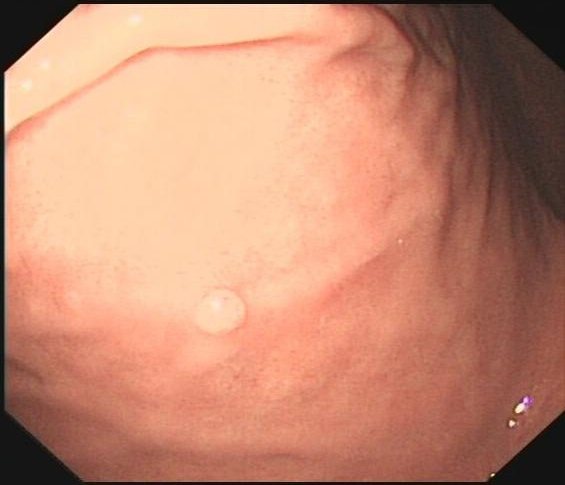Polyp: (172, 255, 276, 351)
